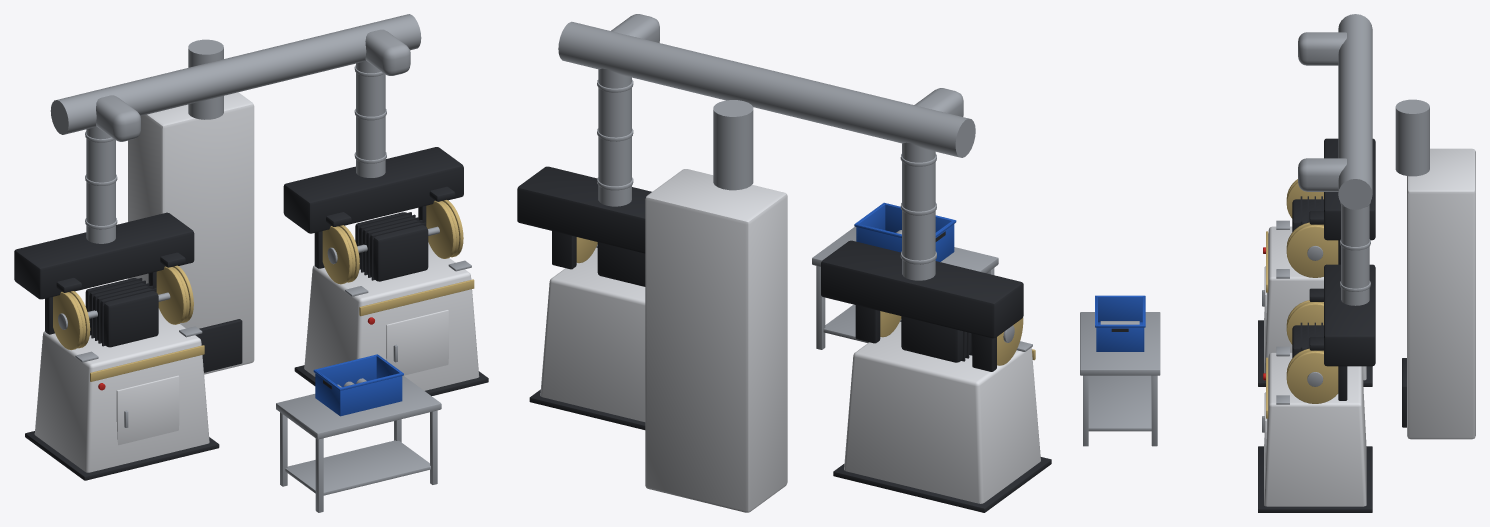
Rendered from Station_Polishing.fbx.
3 views of the same model, side by side, from view 1: azimuth 30°, elevation 25°; view 2: azimuth 150°, elevation 25°; view 3: azimuth 270°, elevation 25° (orthographic). The views are drawn at different scales.
Parts seen in each view (by area): view 1: Polisher R, Dust Main, Polisher L, Work Table; view 2: Dust Main, Polisher R, Polisher L, Work Table; view 3: Dust Main, Polisher L, Work Table, Polisher R.
Boxes of the visible parts, x1=… form: Polisher R: x1=14, y1=127, x2=219, y2=480; Dust Main: x1=50, y1=14, x2=421, y2=374; Polisher L: x1=283, y1=61, x2=488, y2=395; Work Table: x1=276, y1=354, x2=441, y2=512; Dust Main: x1=558, y1=14, x2=975, y2=512; Polisher R: x1=821, y1=142, x2=1051, y2=512; Polisher L: x1=517, y1=68, x2=651, y2=429; Work Table: x1=812, y1=202, x2=998, y2=349; Dust Main: x1=1298, y1=14, x2=1475, y2=439; Polisher L: x1=1258, y1=201, x2=1375, y2=512; Work Table: x1=1080, y1=295, x2=1160, y2=446; Polisher R: x1=1258, y1=138, x2=1375, y2=386.
Bounding box in the file's own units: 4.1 × 3.1 × 3.45.
